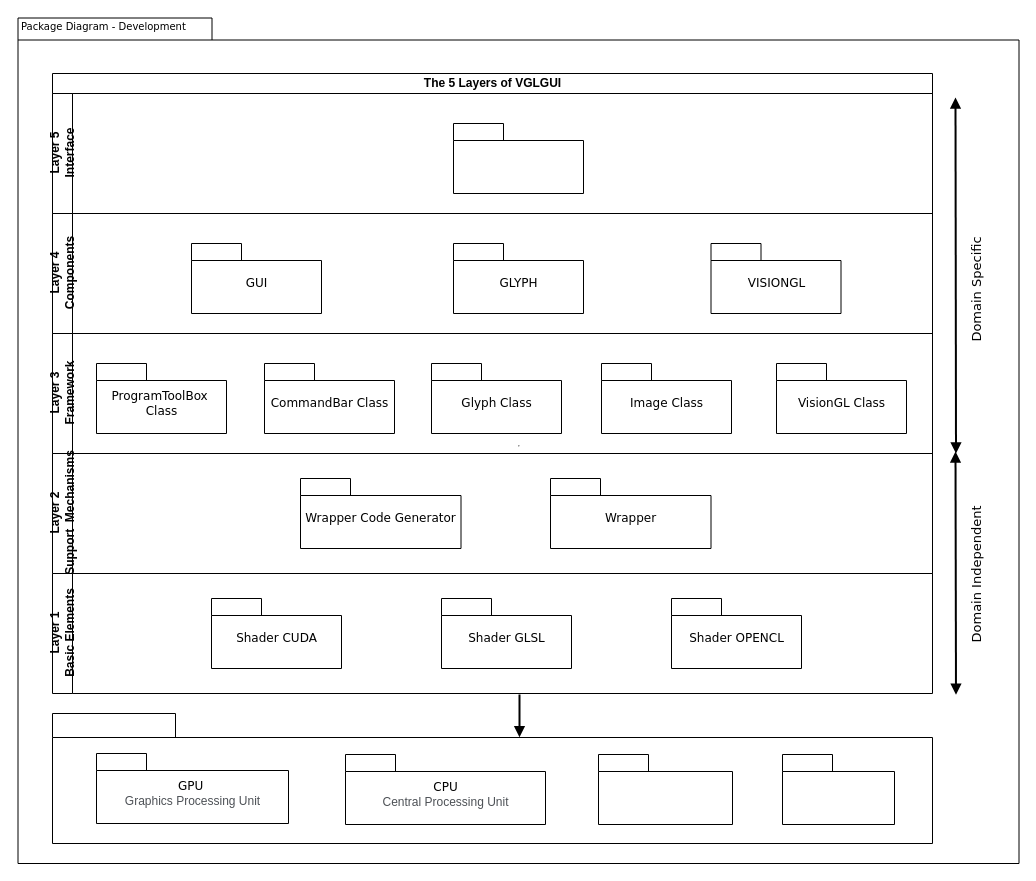
This 1036x881 diagram has some shape labels left out. The shapes that lost their labels are listed below. From the top down, each one's centre as x and y in pixels, then its label:
At (x=518, y=158): "VGLGUI".
At (x=665, y=789): "Operational System".
At (x=838, y=789): "COTS".
